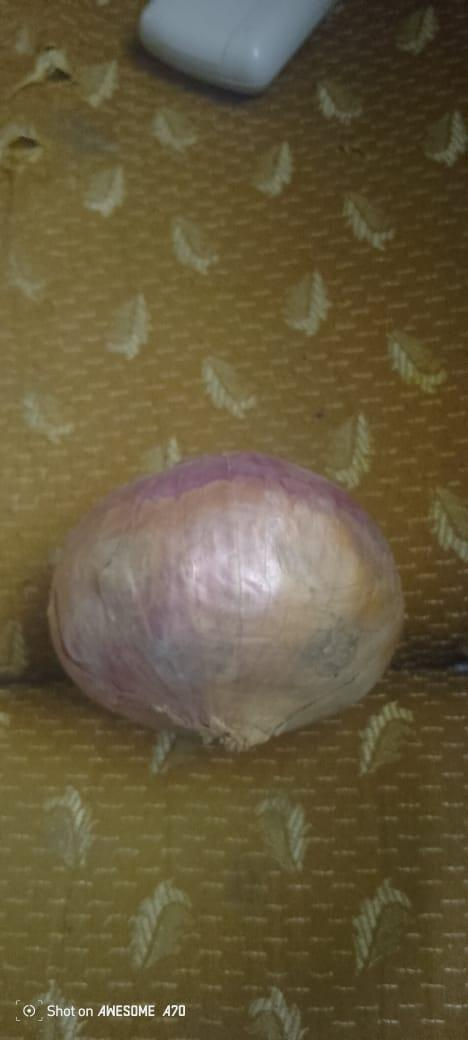non-mango: (43, 458, 431, 763)
